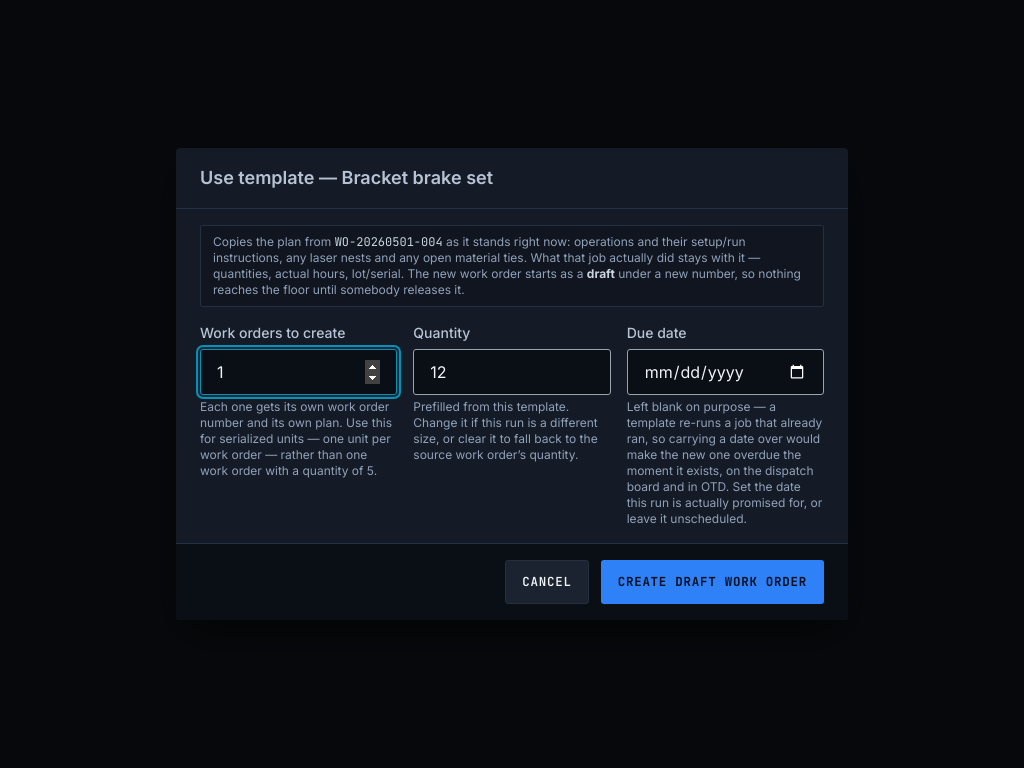
Test case: UseTemplateModal: a partial copy stops the flow › names every skipped tie by part and reason, and spells out the consequence
Click the button "Create draft work order": (712, 582) [601,560,824,604]
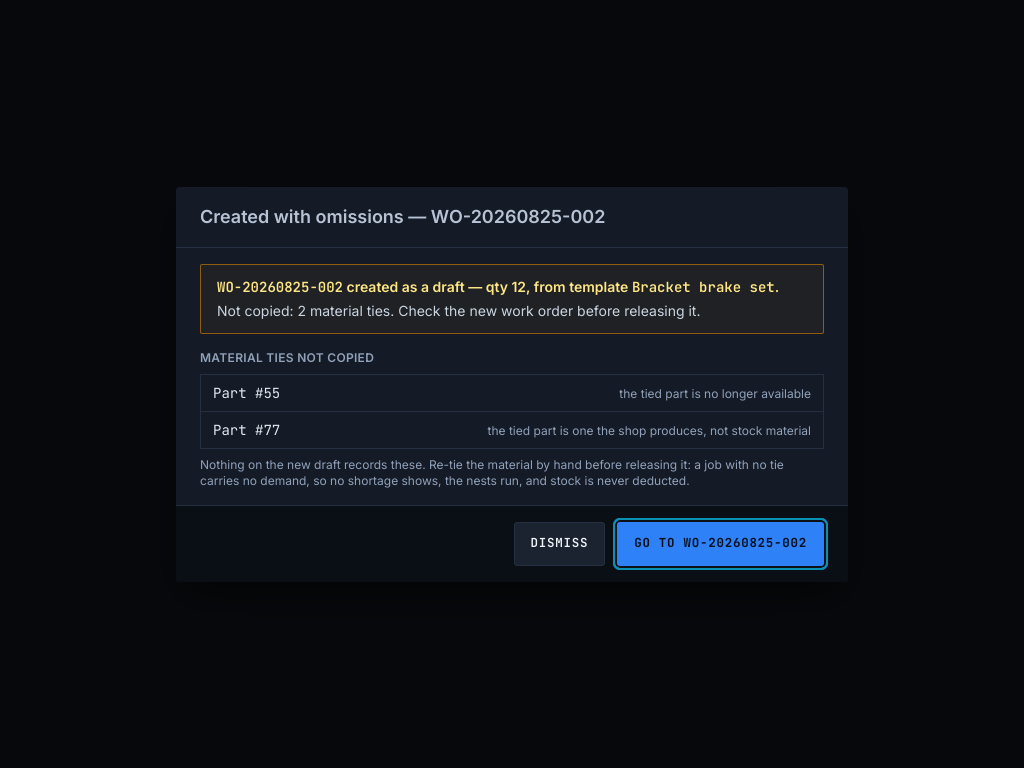
Result: the message with test id "duplicate-wo-skips" is shown at [200,264,824,334]
Result: the number of list items is 2 at [201,374,823,412]; [213,420,811,438]
Result: the list item "Part #55 the tied part is no longer available" is shown at [201,374,823,412]
